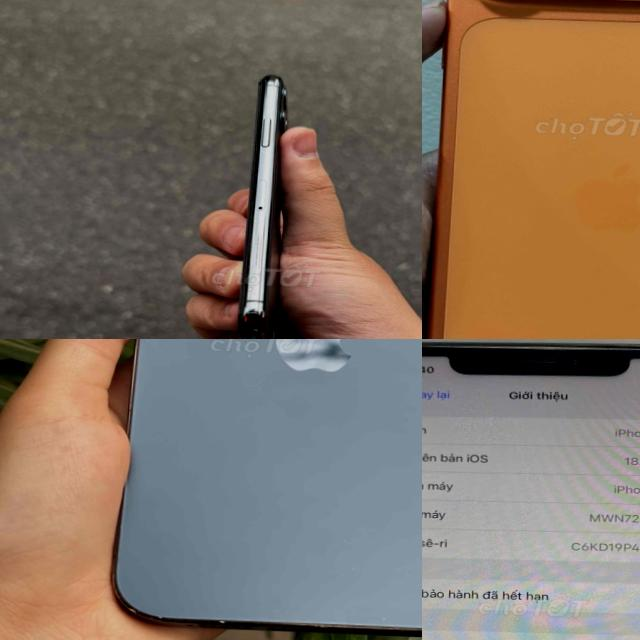gen_11: (422, 339, 640, 640), (215, 65, 316, 339)
gen_12_13: (101, 339, 422, 640)
gen_17: (422, 0, 640, 339)
